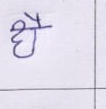ai_matra: (24, 11, 44, 26)
